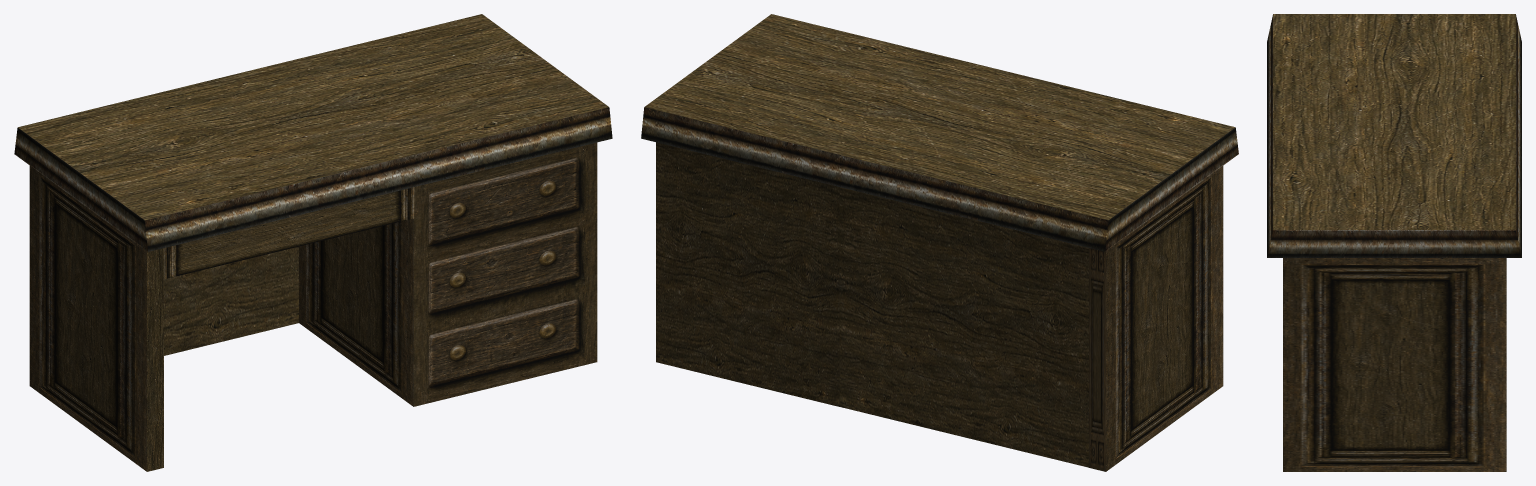
The model's file is mm9_deco_desk02ns.glb.
The picture shows the model from 3 angles, left to right: view 1: azimuth 30°, elevation 25°; view 2: azimuth 150°, elevation 25°; view 3: azimuth 270°, elevation 25°; orthographic projection. The views are drawn at different scales.
Parts seen in each view (by area): view 1: Desk02ns; view 2: Desk02ns; view 3: Desk02ns.
Part boxes in pixels (bbox=[...]): Desk02ns: bbox=[14, 14, 612, 471]; Desk02ns: bbox=[641, 14, 1238, 471]; Desk02ns: bbox=[1267, 14, 1521, 471].
Size of the model in its own units: 2.12 by 1.12 by 1.06.
2 materials, 2 textured.
